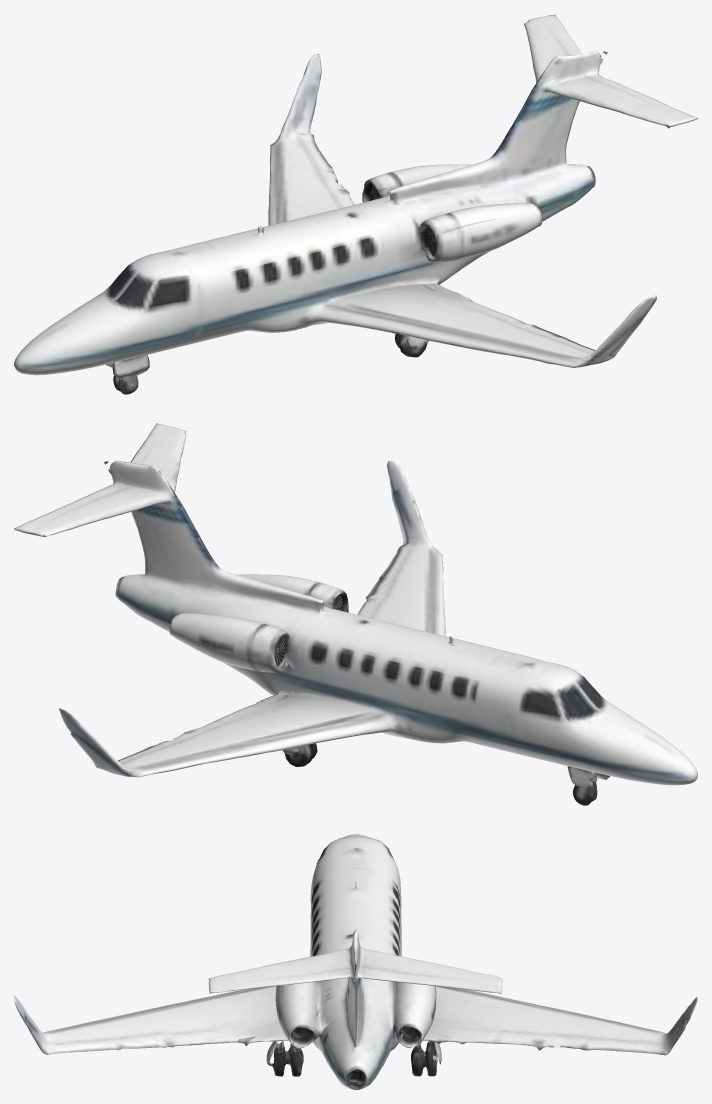
The model's file is citation2.glb.
The picture shows the model from 3 angles, top to bottom: view 1: azimuth 30°, elevation 25°; view 2: azimuth 150°, elevation 25°; view 3: azimuth 270°, elevation 25°; orthographic projection. The views are drawn at different scales.
Visible parts, largest first — view 1: Object_3; view 2: Object_3; view 3: Object_3.
Part boxes in pixels (x1,y1,x2,y2): Object_3: [14, 14, 697, 394]; Object_3: [14, 423, 697, 805]; Object_3: [14, 834, 697, 1089].
Bounding box in the file's own units: 15.8 × 5.73 × 14.92.
3 materials, 3 textured.
